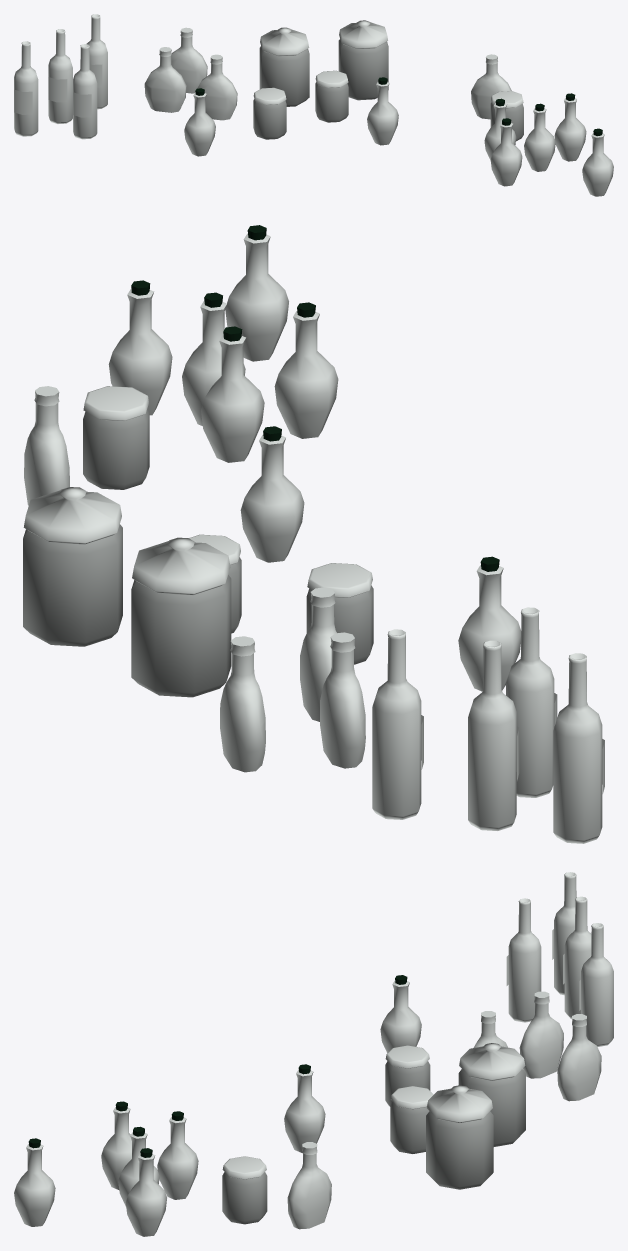
3 renders of one model, top to bottom at view 1: azimuth 30°, elevation 25°; view 2: azimuth 150°, elevation 25°; view 3: azimuth 270°, elevation 25°, orthographic. The views are drawn at different scales.
Parts seen in each view (by area): view 1: G:\FFXIV-MapTools\exports\f1f3\bg\ffxiv\fst_f1\fld\f1f3\bgpa (×5); view 2: G:\FFXIV-MapTools\exports\f1f3\bg\ffxiv\fst_f1\fld\f1f3\bgpa (×4); view 3: G:\FFXIV-MapTools\exports\f1f3\bg\ffxiv\fst_f1\fld\f1f3\bgpa (×4).
Boxes of the visible parts, left/top/right/bottom form: G:\FFXIV-MapTools\exports\f1f3\bg\ffxiv\fst_f1\fld\f1f3\bgpa (×5): left=14, top=14, right=613, bottom=196; G:\FFXIV-MapTools\exports\f1f3\bg\ffxiv\fst_f1\fld\f1f3\bgpa (×4): left=23, top=225, right=602, bottom=843; G:\FFXIV-MapTools\exports\f1f3\bg\ffxiv\fst_f1\fld\f1f3\bgpa (×4): left=14, top=872, right=613, bottom=1236.
Size of the model in its own units: 2.24 by 0.468 by 2.19.
